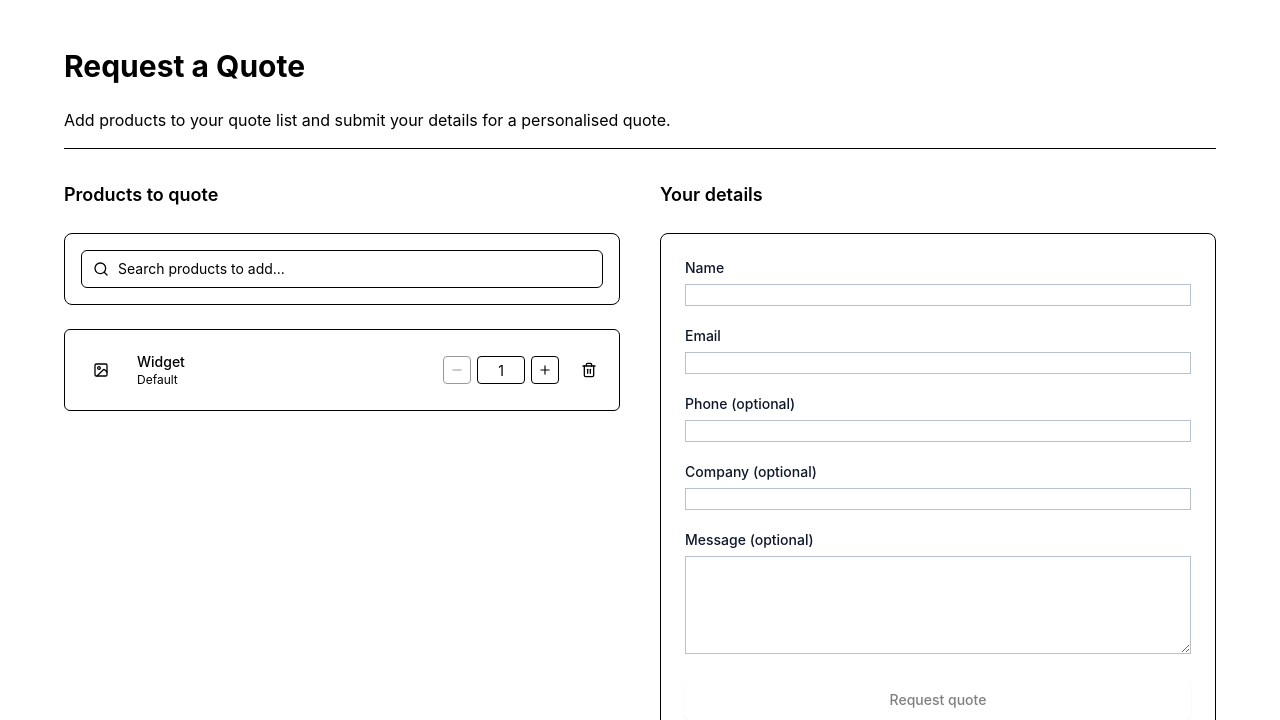
QuoteRequestPage › confirmation copy swap › shows generic copy when config.quote is absent
Step 1. Type "Test User" into the field labelled "Name" → (938, 295), box x1=685 y1=284 x2=1191 y2=306
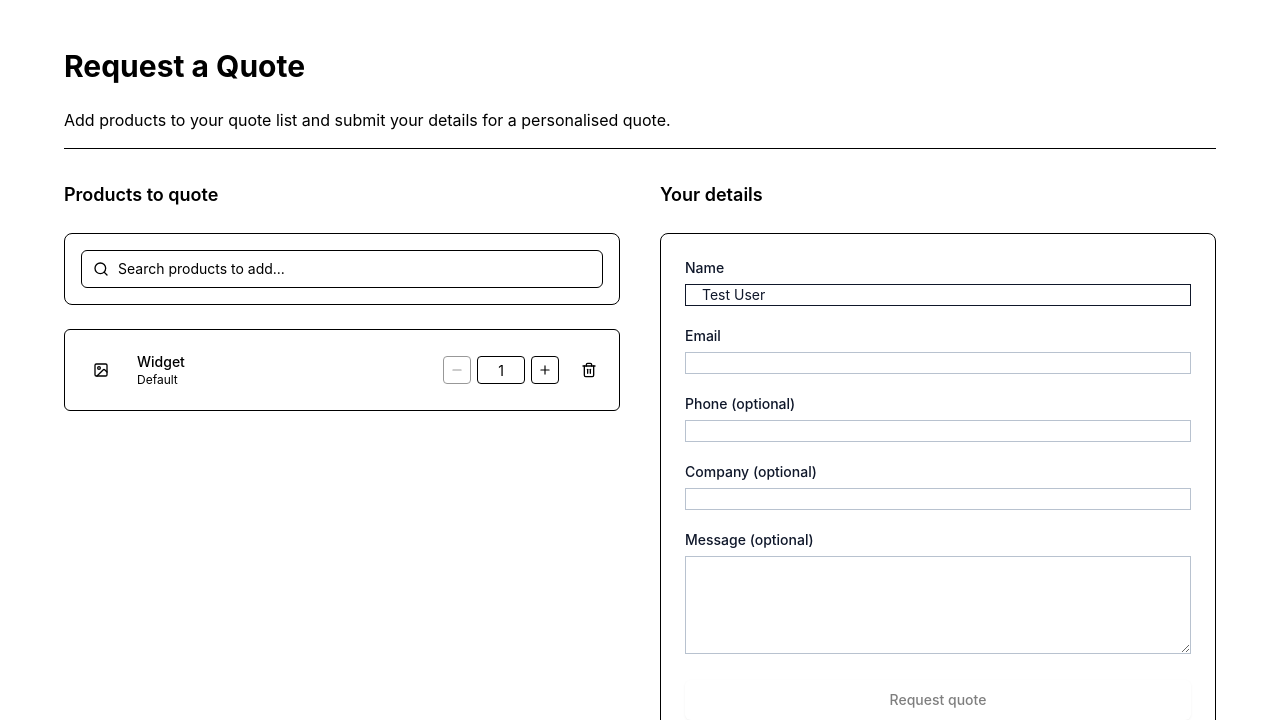
Step 2. Type "test@example.com" into the field labelled "Email" → (938, 363), box x1=685 y1=352 x2=1191 y2=374
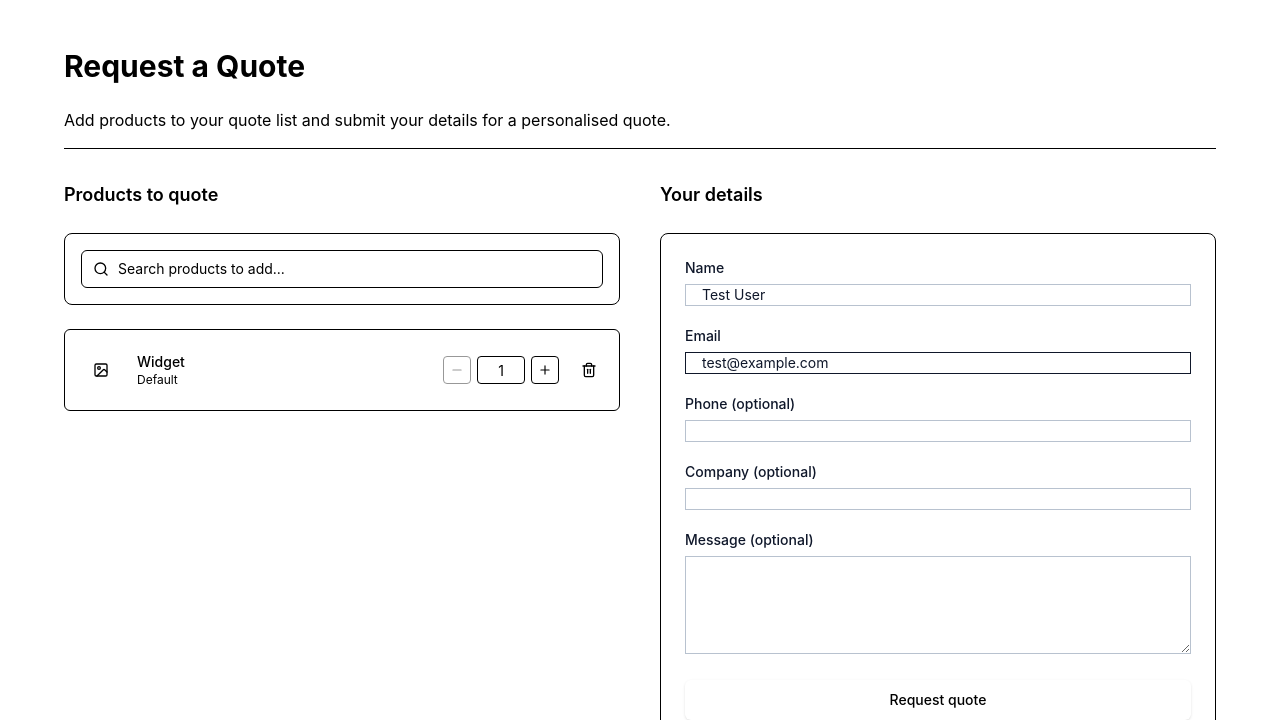
Check: the button "Request quote" is enabled
Step 3. Click the button "Request quote" → (938, 700), box x1=685 y1=680 x2=1191 y2=719
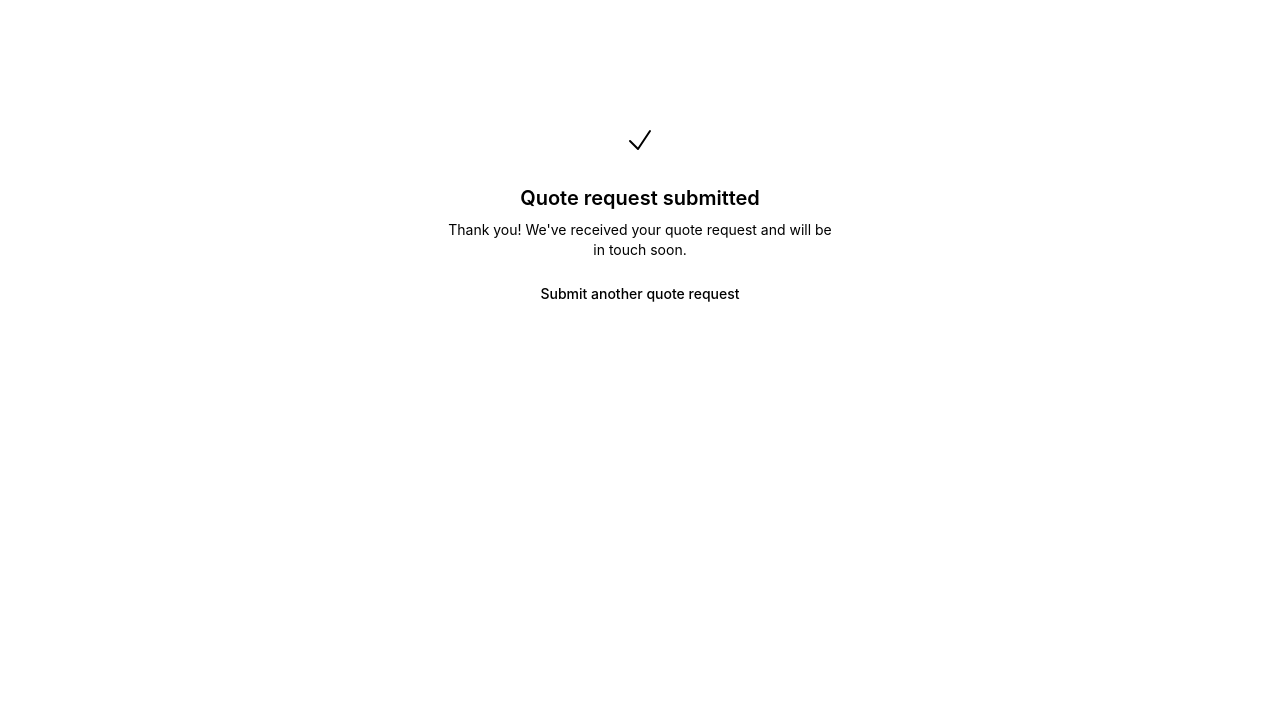
Check: the heading "Quote request submitted" is shown, box x1=520 y1=184 x2=760 y2=212
Check: the text "Thank you! We've received your quote request and will be in touch soon." is shown, box x1=448 y1=220 x2=832 y2=260
